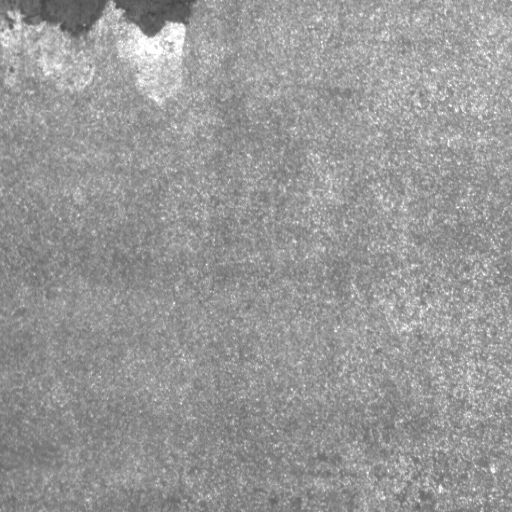aokeng: (1, 1, 199, 41)
